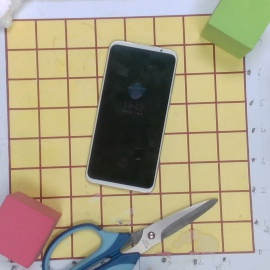phone: (87, 39, 179, 193)
